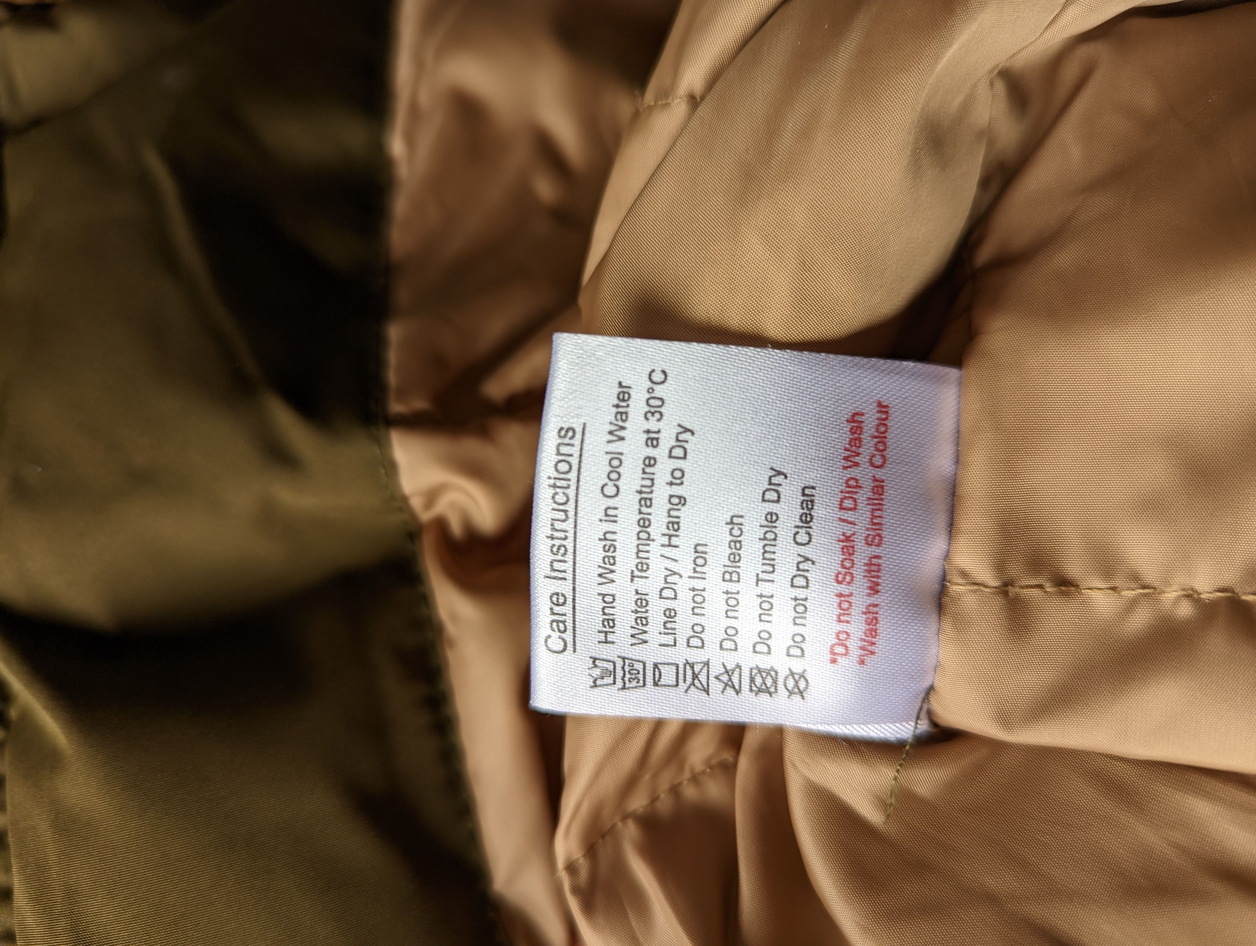ER_hand_wash: (585, 653, 618, 693)
ER_no_bleach: (714, 655, 745, 700)
ER_no_dry_clean: (781, 663, 811, 705)
ER_no_iron: (681, 653, 713, 699)
ER_no_tumble_dry: (746, 659, 780, 702)
ER_wash_30: (615, 652, 648, 693)
